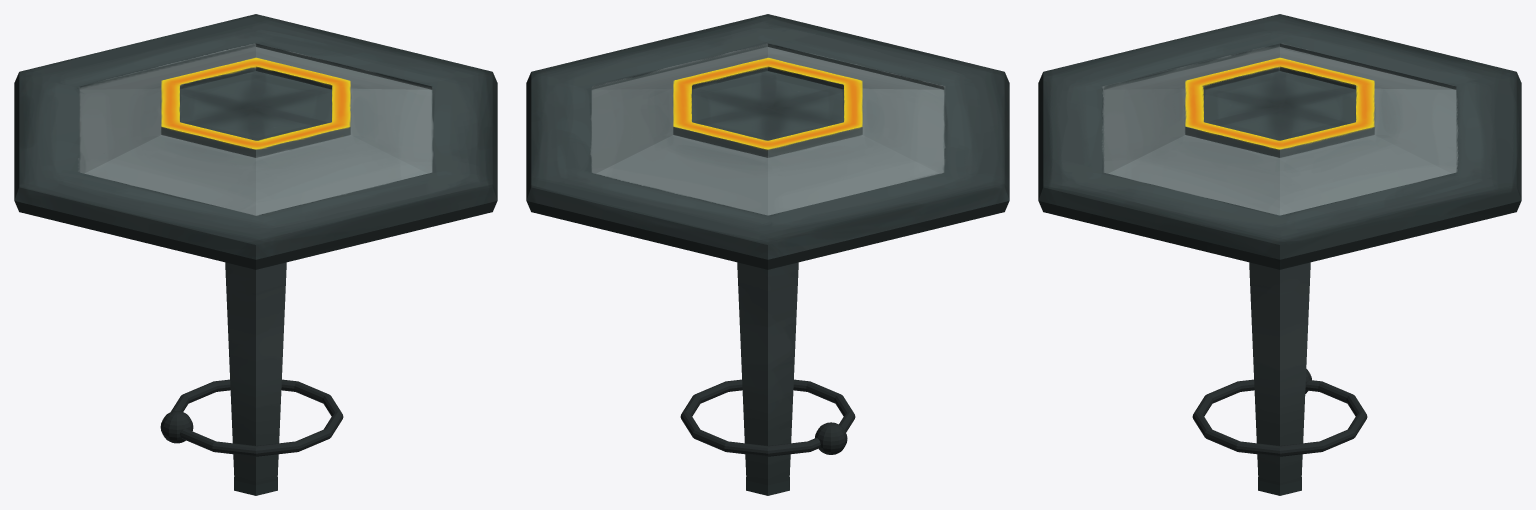
Rendered from Pedestal.fbx.
The picture shows the model from 3 angles, left to right: view 1: azimuth 30°, elevation 25°; view 2: azimuth 150°, elevation 25°; view 3: azimuth 270°, elevation 25°; orthographic projection.
Parts seen in each view (by area): view 1: polySurface2, polySurface1, pTorus1, pSphere3; view 2: polySurface2, polySurface1, pTorus1, pSphere3; view 3: polySurface2, polySurface1, pTorus1.
Part boxes in pixels (x1=…): polySurface2: x1=14, y1=14, x2=497, y2=495; polySurface1: x1=161, y1=57, x2=350, y2=149; pTorus1: x1=171, y1=379, x2=343, y2=456; pSphere3: x1=160, y1=411, x2=193, y2=443; polySurface2: x1=526, y1=14, x2=1009, y2=495; polySurface1: x1=673, y1=57, x2=862, y2=149; pTorus1: x1=680, y1=379, x2=855, y2=456; pSphere3: x1=815, y1=422, x2=847, y2=454; polySurface2: x1=1038, y1=14, x2=1521, y2=495; polySurface1: x1=1185, y1=57, x2=1374, y2=149; pTorus1: x1=1192, y1=379, x2=1367, y2=456.
Size of the model in its own units: 102 by 78.03 by 88.35.
Materials: 2 (1 with a texture image).
